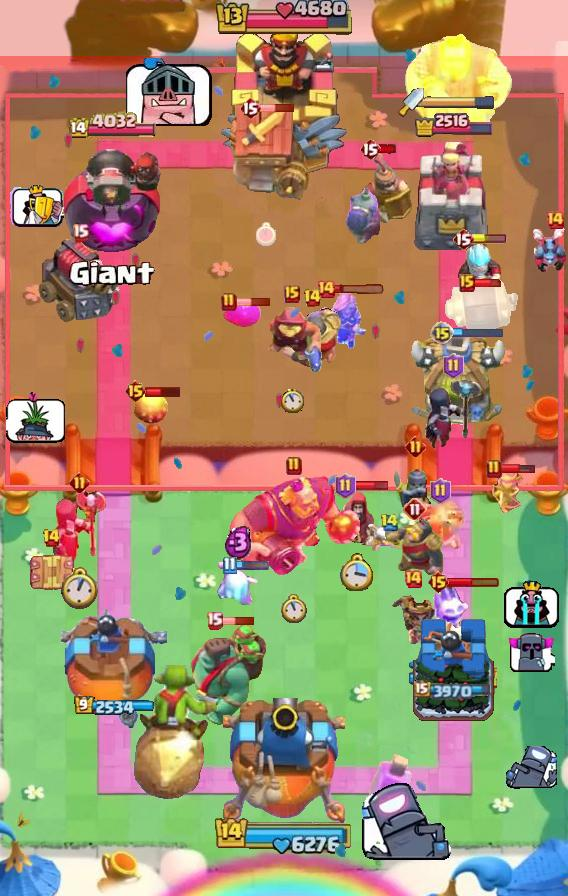archer: (489, 467, 523, 517)
bar: (447, 576, 500, 588), (452, 327, 504, 338), (334, 284, 386, 295), (145, 385, 182, 398), (501, 463, 536, 475), (234, 560, 270, 571), (354, 480, 389, 491), (471, 234, 507, 244), (220, 616, 255, 626), (236, 297, 271, 307), (260, 103, 295, 113), (472, 278, 504, 288), (379, 143, 398, 155)
bar-level: (403, 497, 427, 521), (430, 321, 454, 345), (427, 570, 450, 594), (124, 379, 147, 403), (430, 478, 451, 504), (335, 473, 356, 499), (443, 353, 464, 379), (452, 227, 474, 251), (359, 137, 381, 161), (239, 96, 261, 120), (69, 472, 90, 493), (405, 436, 426, 457), (403, 569, 423, 589), (316, 279, 336, 299), (545, 210, 565, 230), (42, 528, 61, 548), (303, 288, 322, 308), (380, 513, 399, 532), (206, 611, 223, 630), (72, 223, 89, 242), (486, 459, 502, 479), (286, 456, 302, 476), (221, 292, 237, 312), (284, 285, 300, 303), (459, 274, 475, 292), (222, 556, 237, 575)
barbarian-barrel: (441, 280, 521, 334)
bomber-evolution: (345, 179, 383, 247)
cannoneer-tower: (62, 138, 166, 256)
clock: (61, 567, 98, 610), (340, 553, 374, 591), (281, 594, 307, 624), (281, 388, 304, 413), (256, 222, 276, 246)
dagger-duchess-tower: (412, 140, 494, 256)
dagger-duchess-tower-bar: (424, 95, 496, 109)
elixir: (224, 524, 253, 560)
elixir-golem-small: (221, 300, 261, 328)
emote: (362, 783, 455, 864), (126, 58, 215, 126), (6, 390, 67, 444), (503, 577, 560, 629), (9, 185, 64, 228), (506, 746, 557, 790), (508, 631, 555, 673)
guard: (391, 462, 439, 522)
ice-spirit: (216, 562, 260, 606)
ice-spirit-evolution: (432, 582, 472, 632)
ice-wizard: (456, 236, 504, 302)
king-tower: (219, 23, 349, 181), (223, 698, 345, 826)
king-tower-bar: (214, 815, 354, 855), (213, 0, 355, 38)
knight: (282, 307, 343, 369), (385, 518, 445, 578)
little-prince: (386, 591, 441, 653)
minion: (530, 224, 568, 274)
night-witch: (49, 488, 109, 572), (422, 378, 484, 450)
phoenix-egg: (134, 387, 168, 425)
princess: (413, 499, 467, 553)
queen-tower: (61, 603, 167, 731), (409, 616, 497, 731)
royal-recruit: (358, 151, 412, 223)
skeleton: (365, 523, 413, 555)
tesla: (26, 550, 76, 596)
tower-bar: (69, 112, 159, 141), (413, 111, 494, 138), (74, 696, 155, 717), (414, 680, 493, 700)
valkyrie-evolution: (308, 288, 368, 352)
wizard: (336, 491, 378, 551)
